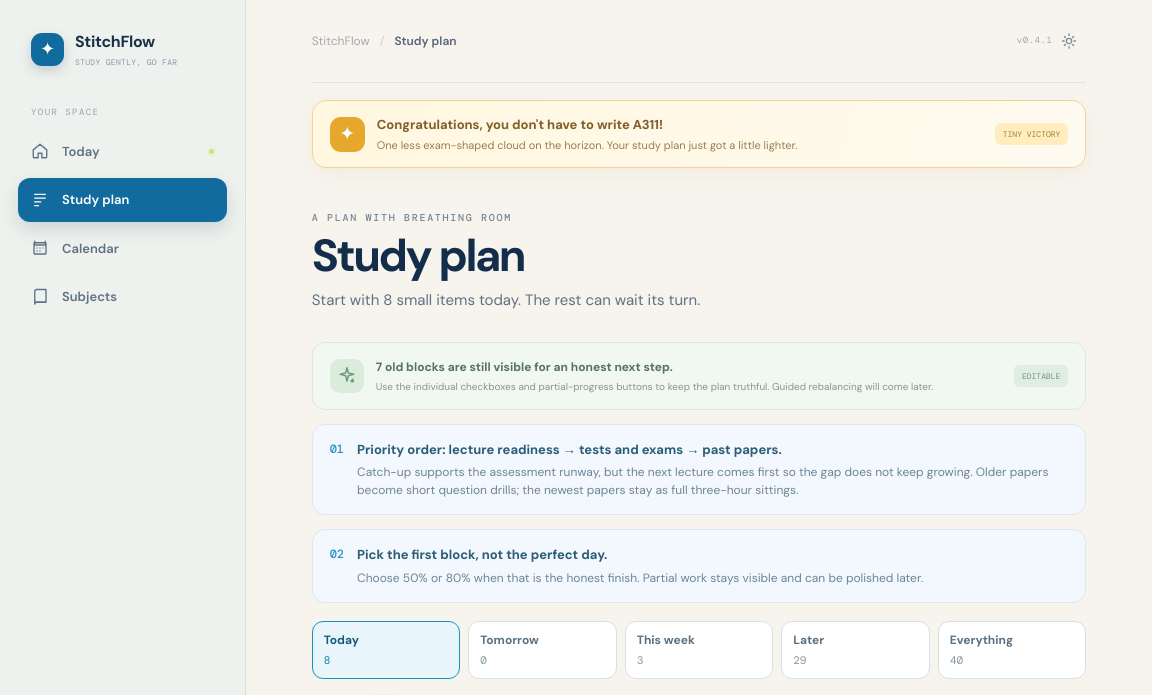
Test case: study cockpit interactions › shows the lecture-first and old-versus-new paper policy in the plan
Expected: the text "lecture readiness → tests and exams → past papers" is shown, [357,441,782,458]
Click the button "Subjects" at [122, 297], box [18,275,227,318]
(page scrolled)
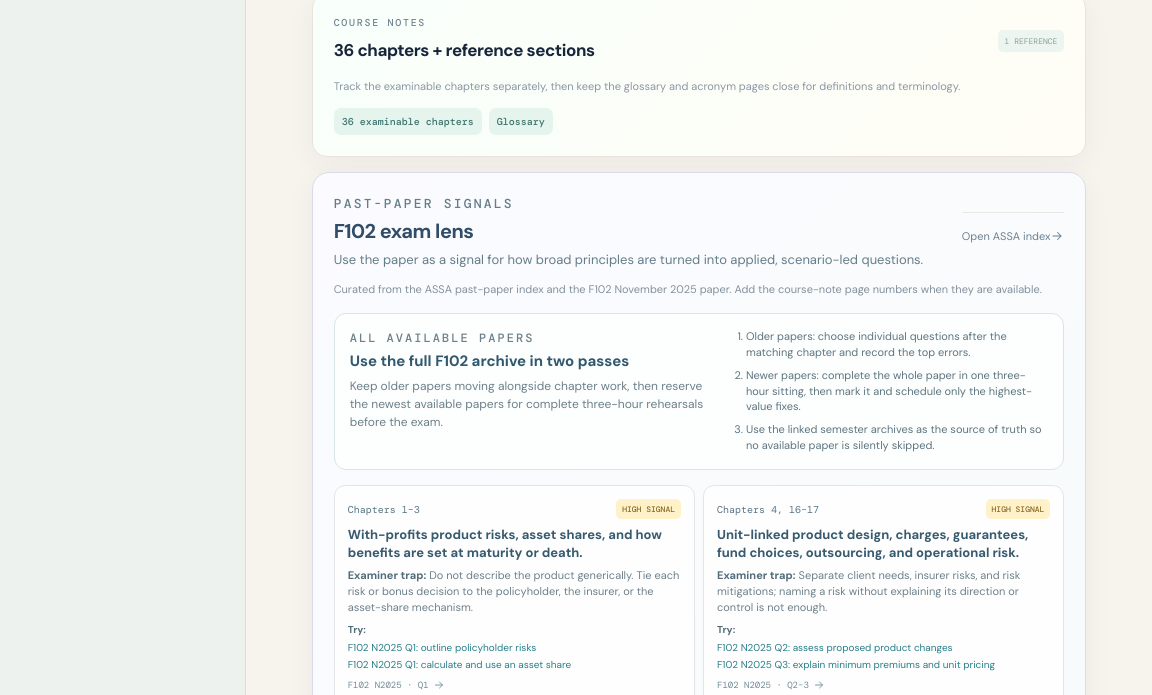
Result: the list item "Older papers: choose individual questions" is shown at [746,329,1007,359]
Result: the heading "Use the full F102 archive in two passes" is shown at [350,351,629,371]
